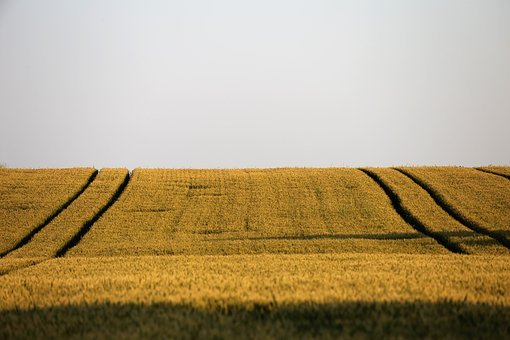field: (6, 169, 510, 338)
sky: (3, 2, 510, 169)
